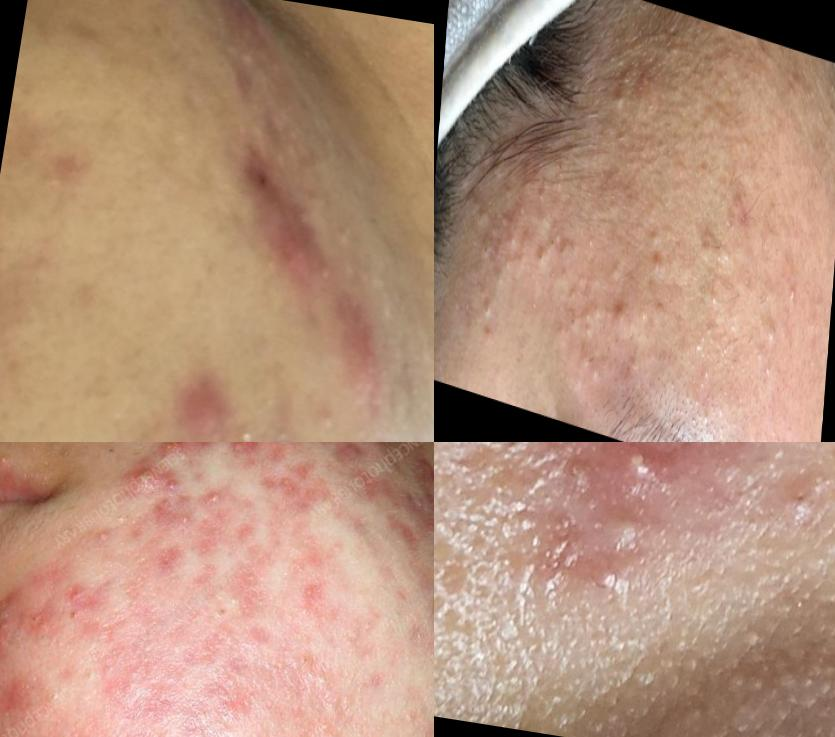acne_scars: (213, 134, 346, 293), (324, 292, 397, 390)
blackhead: (468, 229, 495, 293), (761, 311, 782, 356), (108, 497, 139, 526), (115, 443, 152, 462), (466, 201, 491, 229), (532, 242, 550, 277), (100, 444, 122, 464)
papular: (157, 369, 249, 443), (777, 451, 835, 523), (55, 573, 97, 609)
purulent: (612, 443, 674, 501), (782, 269, 804, 320), (171, 510, 202, 535), (201, 486, 225, 510)
sebo-crystan-conglo: (1, 571, 31, 668), (125, 466, 191, 503), (157, 443, 209, 466), (229, 443, 264, 455)
whitehead: (592, 506, 660, 574), (546, 445, 608, 518), (530, 165, 571, 220), (307, 390, 349, 443), (574, 337, 607, 399), (396, 685, 435, 737), (576, 295, 602, 346), (304, 708, 343, 737), (575, 219, 601, 259), (41, 677, 70, 711), (602, 245, 624, 285), (234, 413, 260, 443), (270, 417, 299, 443), (477, 293, 497, 330), (690, 330, 709, 365), (612, 84, 631, 116), (633, 297, 649, 334), (1, 446, 20, 476), (649, 251, 666, 283), (728, 187, 745, 218), (707, 284, 722, 319), (555, 233, 571, 263), (723, 208, 738, 236), (510, 224, 524, 250), (502, 188, 516, 213), (503, 252, 513, 277)
